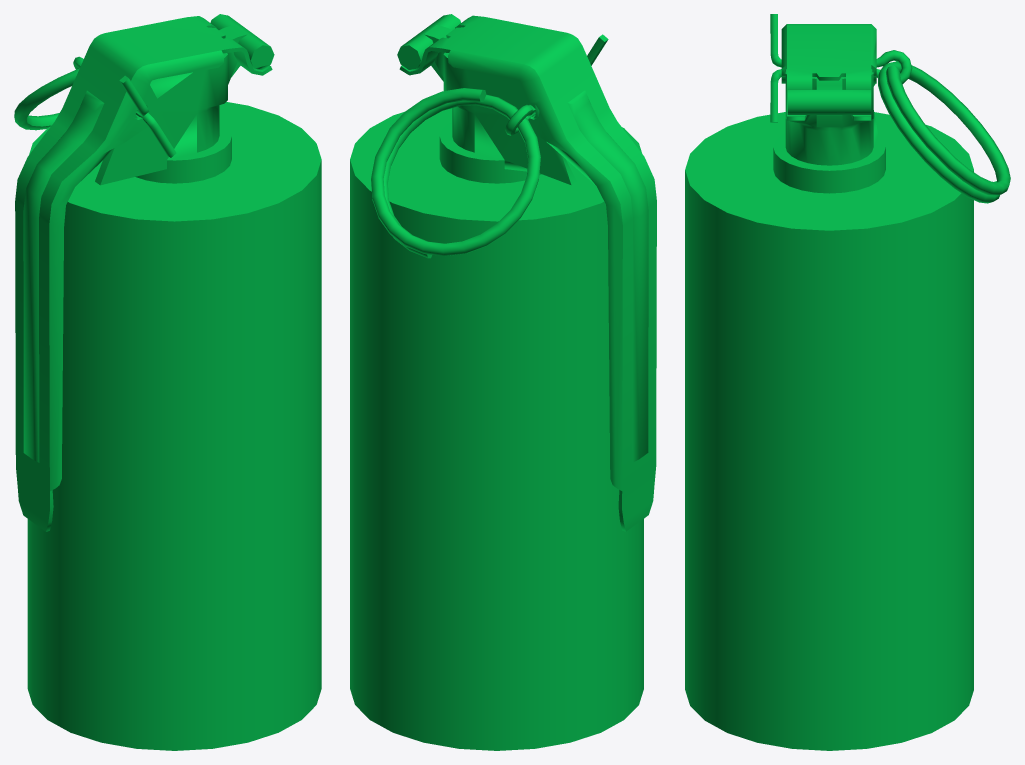
File: Grenade 3.fbx
3 views of the same model, side by side, from view 1: azimuth 30°, elevation 25°; view 2: azimuth 150°, elevation 25°; view 3: azimuth 270°, elevation 25° (orthographic).
Visible parts, largest first — view 1: mainSmoke_Grende, handleSmoke_Grende, handle_designSmoke_Grende, ringSmoke_Grende, hookSmoke_Grende; view 2: mainSmoke_Grende, handleSmoke_Grende, ringSmoke_Grende, handle_designSmoke_Grende, hookSmoke_Grende; view 3: mainSmoke_Grende, ringSmoke_Grende, handleSmoke_Grende, hookSmoke_Grende.
Boxes of the visible parts, x1,y1,x2,y2 form: mainSmoke_Grende: (27,14,321,750); handleSmoke_Grende: (15,16,272,531); handle_designSmoke_Grende: (23,90,104,462); ringSmoke_Grende: (14,68,79,130); hookSmoke_Grende: (73,56,176,157); mainSmoke_Grende: (350,14,643,750); handleSmoke_Grende: (399,15,656,531); ringSmoke_Grende: (371,88,540,258); handle_designSmoke_Grende: (567,90,648,462); hookSmoke_Grende: (505,34,608,135); mainSmoke_Grende: (685,69,973,750); ringSmoke_Grende: (878,61,1010,203); handleSmoke_Grende: (781,24,876,120); hookSmoke_Grende: (770,14,912,122).
Size of the model in its own units: 6.45 by 14.66 by 6.76.
